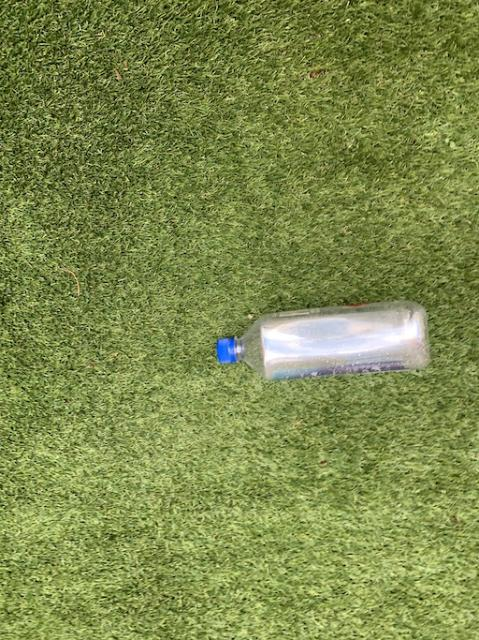plastic: (216, 301, 428, 379)
